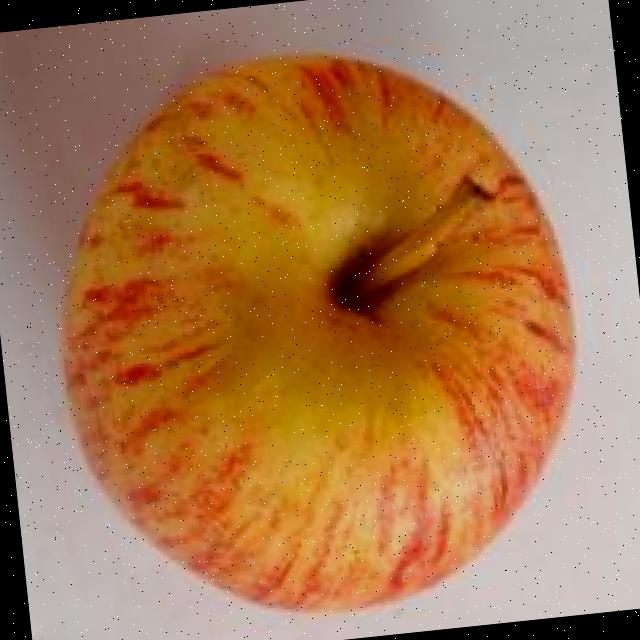apple: (2, 2, 635, 640)
